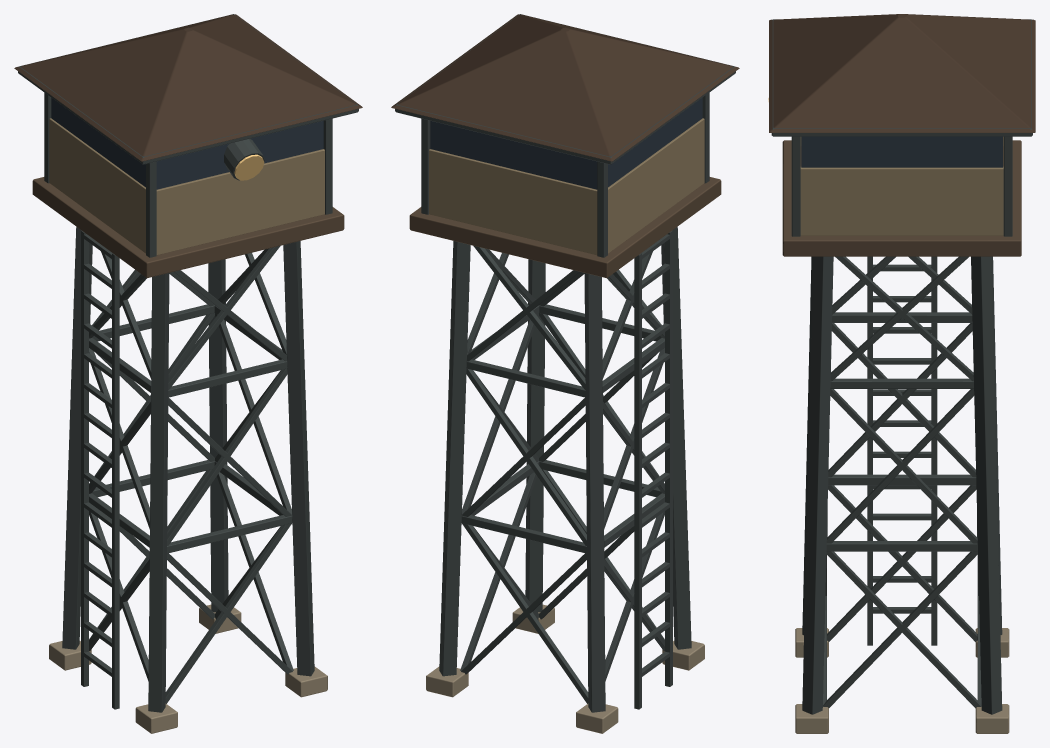
File: Watchtower.glb
3 renders of one model, left to right at view 1: azimuth 30°, elevation 25°; view 2: azimuth 150°, elevation 25°; view 3: azimuth 270°, elevation 25°, orthographic. The views are drawn at different scales.
Visible parts, largest first — view 1: Watchtower.001; view 2: Watchtower.001; view 3: Watchtower.001.
Boxes of the visible parts, x1=… form: Watchtower.001: x1=14, y1=14, x2=362, y2=733; Watchtower.001: x1=391, y1=14, x2=739, y2=733; Watchtower.001: x1=768, y1=14, x2=1035, y2=733.
Bounding box in the file's own units: 3.57 × 9.95 × 3.58.
